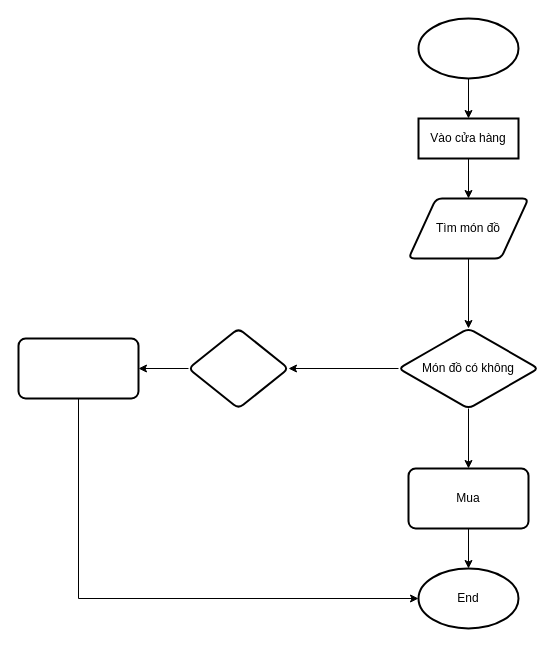
This 556x646 diagram has some shape labels left out. Each missing label, with the centre of its shape:
Bắt đầu: [468,48]
Hỏi nhân viên: [238,368]
Về: [78,368]
